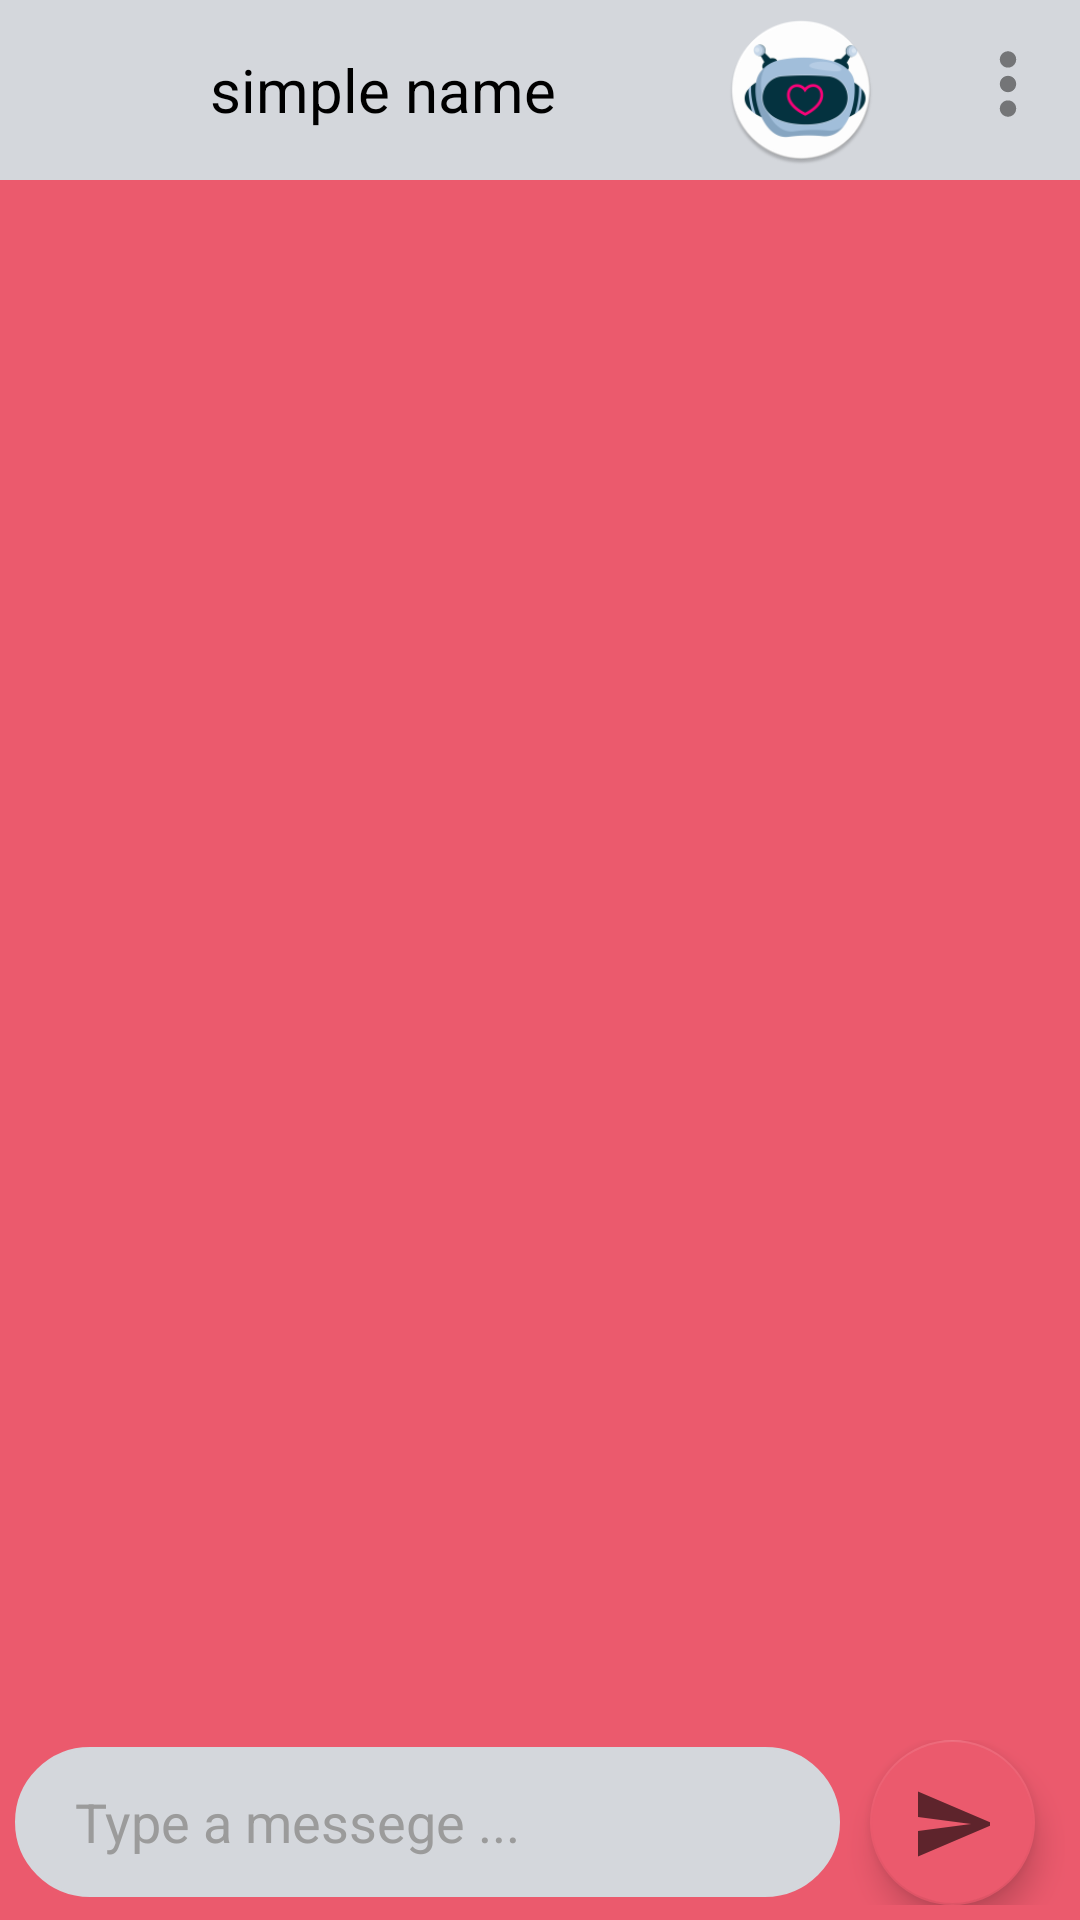

Locate icon controls on the screen. Image size 1080w x 1920h, boxes as (x1, y1, x2, y2).
send action: (878, 1740, 1035, 1905)
